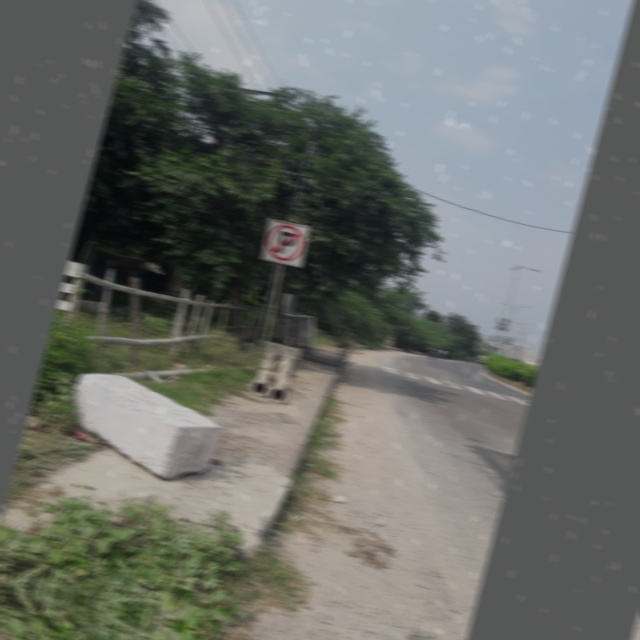No_Parking: (256, 214, 313, 273)
